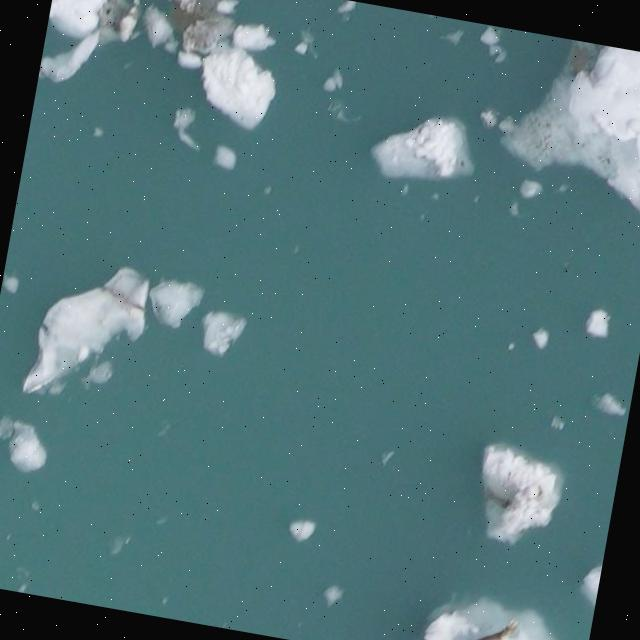seal: (476, 614, 522, 640)
